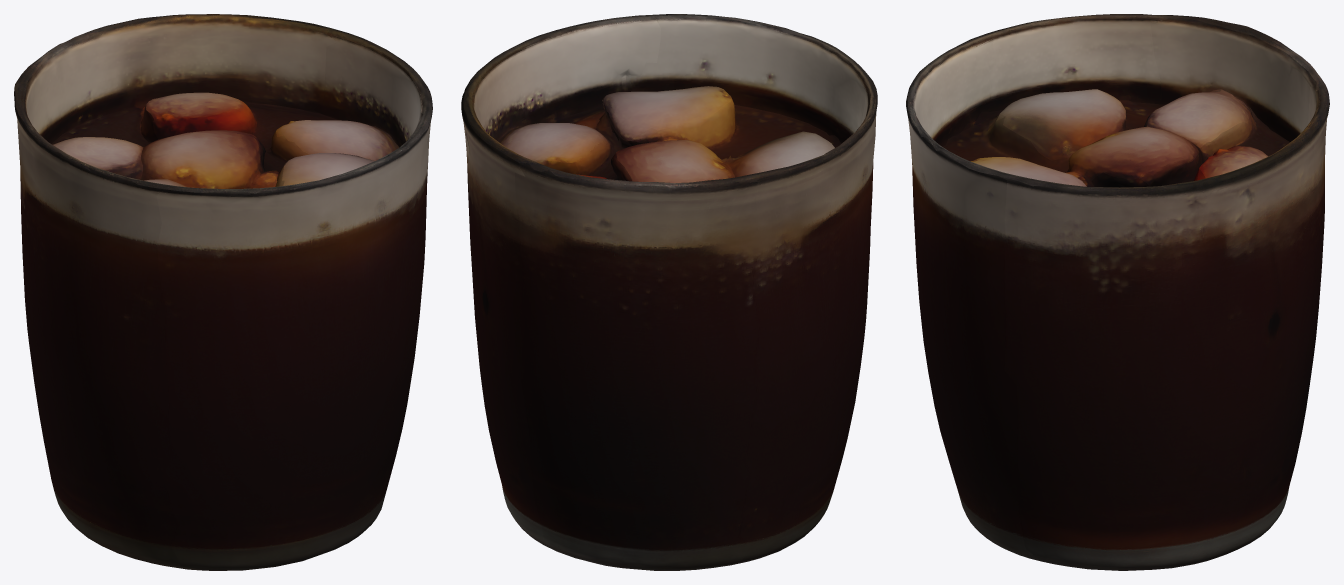
The model's file is item-3d-6d6d02b4-4287-48db-9c7e-b925ad9a7274.glb.
3 renders of one model, left to right at view 1: azimuth 30°, elevation 25°; view 2: azimuth 150°, elevation 25°; view 3: azimuth 270°, elevation 25°, orthographic.
Parts seen in each view (by area): view 1: world; view 2: world; view 3: world.
Part boxes in pixels (x1=…): world: x1=14, y1=14, x2=432, y2=570; world: x1=461, y1=14, x2=877, y2=570; world: x1=906, y1=14, x2=1329, y2=570.
Size of the model in its own units: 0.513 by 0.5619 by 0.5233.
Materials: 1 (1 with a texture image).
